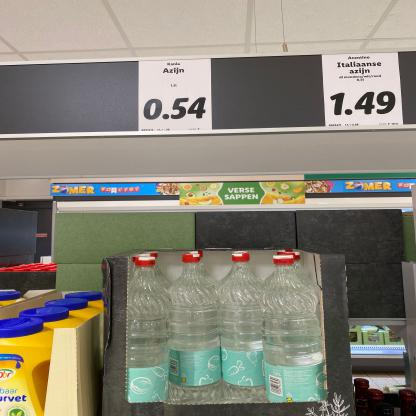prtg: (323, 53, 404, 127), (139, 59, 213, 132)
